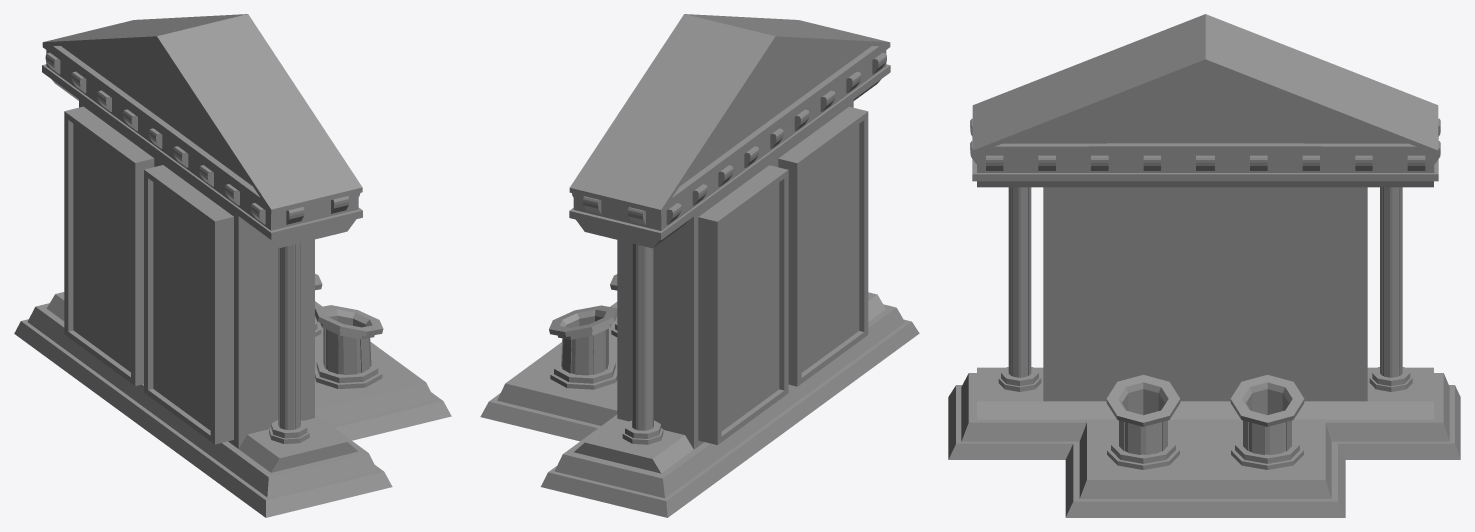
Rendered from M.E.Lanzador.fbx.
The picture shows the model from 3 angles, left to right: view 1: azimuth 30°, elevation 25°; view 2: azimuth 150°, elevation 25°; view 3: azimuth 270°, elevation 25°; orthographic projection.
Visible parts, largest first — view 1: M.E.Lanzador; view 2: M.E.Lanzador; view 3: M.E.Lanzador.
Part boxes in pixels (x1=…): M.E.Lanzador: x1=14, y1=14, x2=451, y2=517; M.E.Lanzador: x1=480, y1=14, x2=919, y2=517; M.E.Lanzador: x1=948, y1=14, x2=1460, y2=517.
Size of the model in its own units: 923 by 1394 by 1652.
